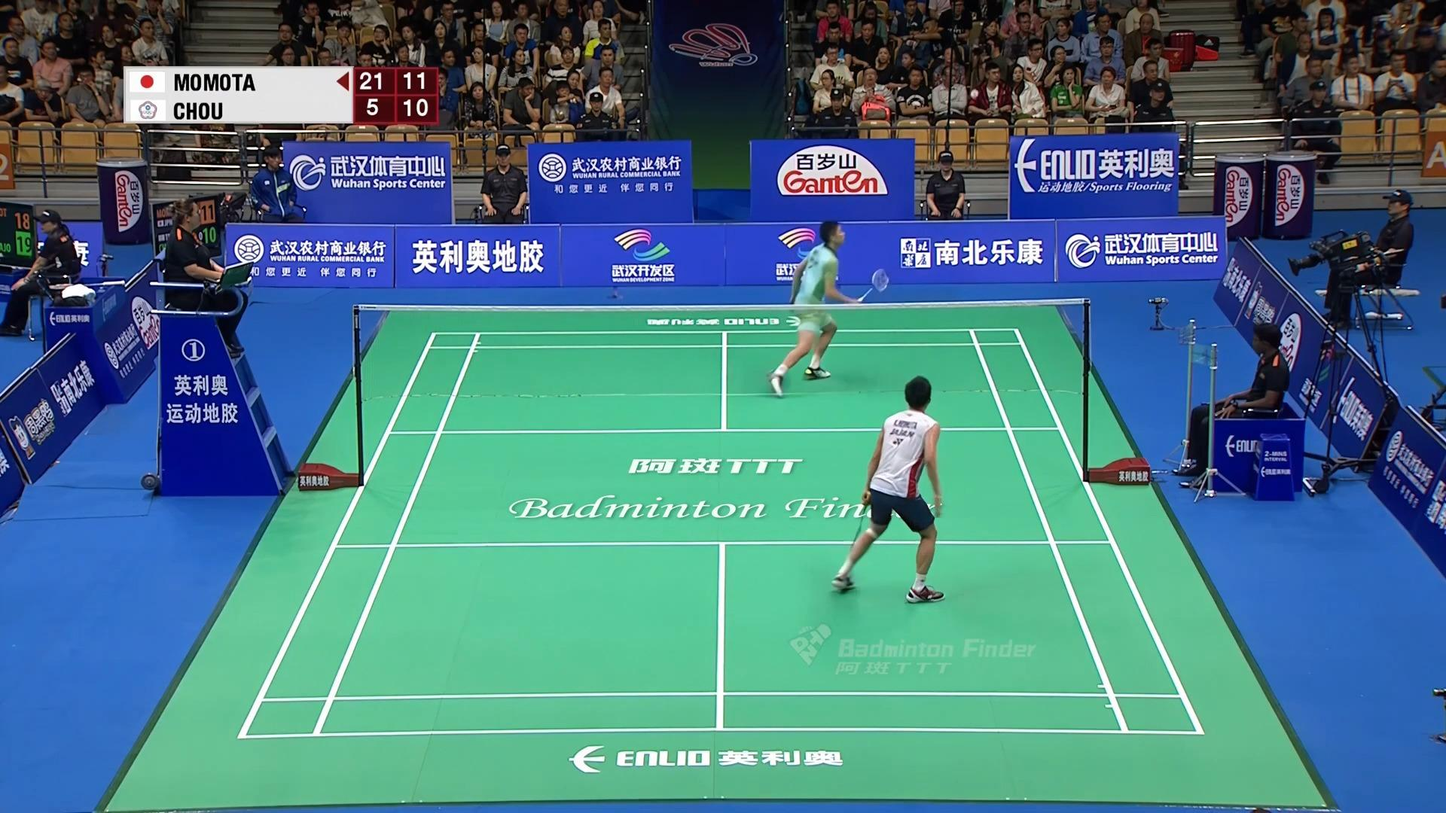shuttlecock: (970, 88, 980, 100)
